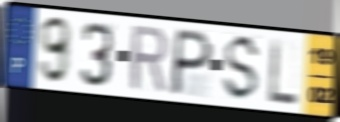3: (80, 20, 117, 89)
9: (36, 15, 74, 86)
L: (268, 36, 300, 107)
P: (167, 26, 216, 98)
R: (129, 23, 170, 95)
S: (220, 33, 264, 104)
